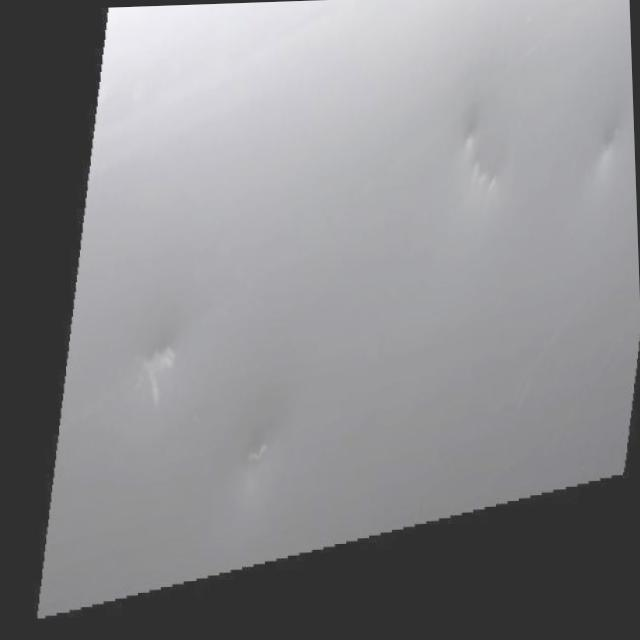dent: (134, 330, 232, 400), (454, 114, 521, 207), (592, 112, 635, 204), (244, 420, 292, 479)
